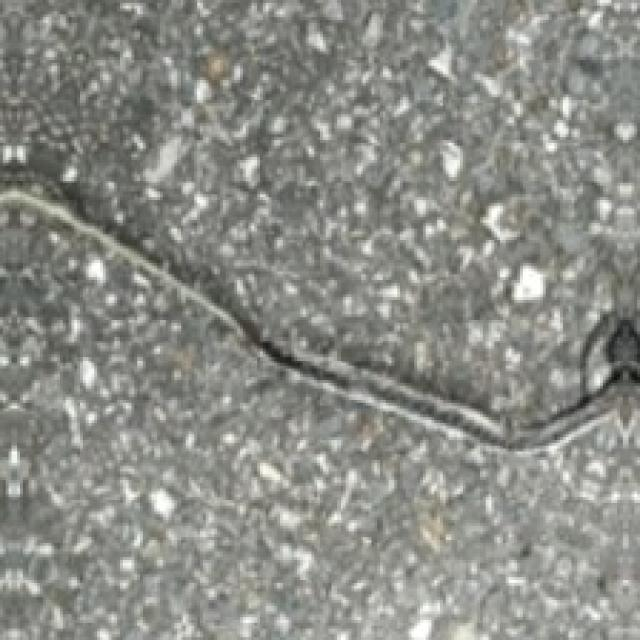king cobra: (0, 189, 637, 454)
